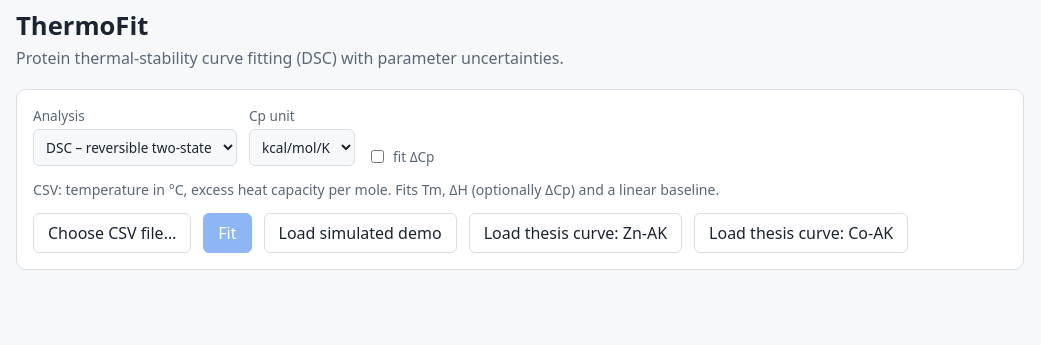
Scenario: App › shows the error message from the API when the fit fails
Click the button "Load simulated demo".
click(360, 233)  # box [264,213,457,253]
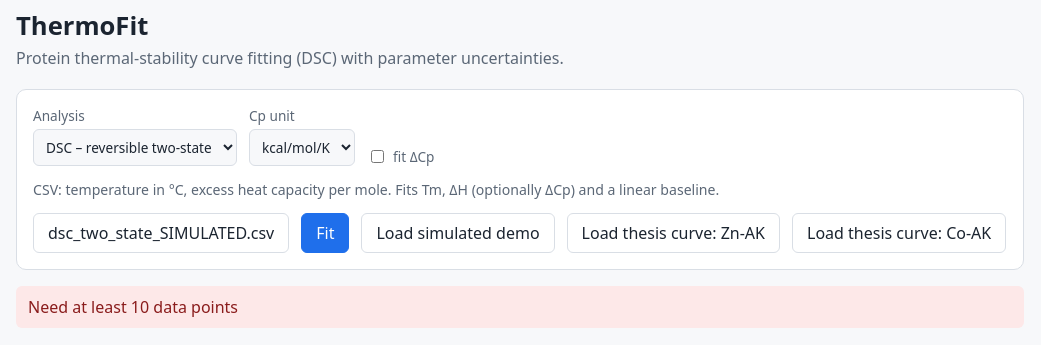
Now the message reads "Need at least 10 data points", box [28,296,238,318]
